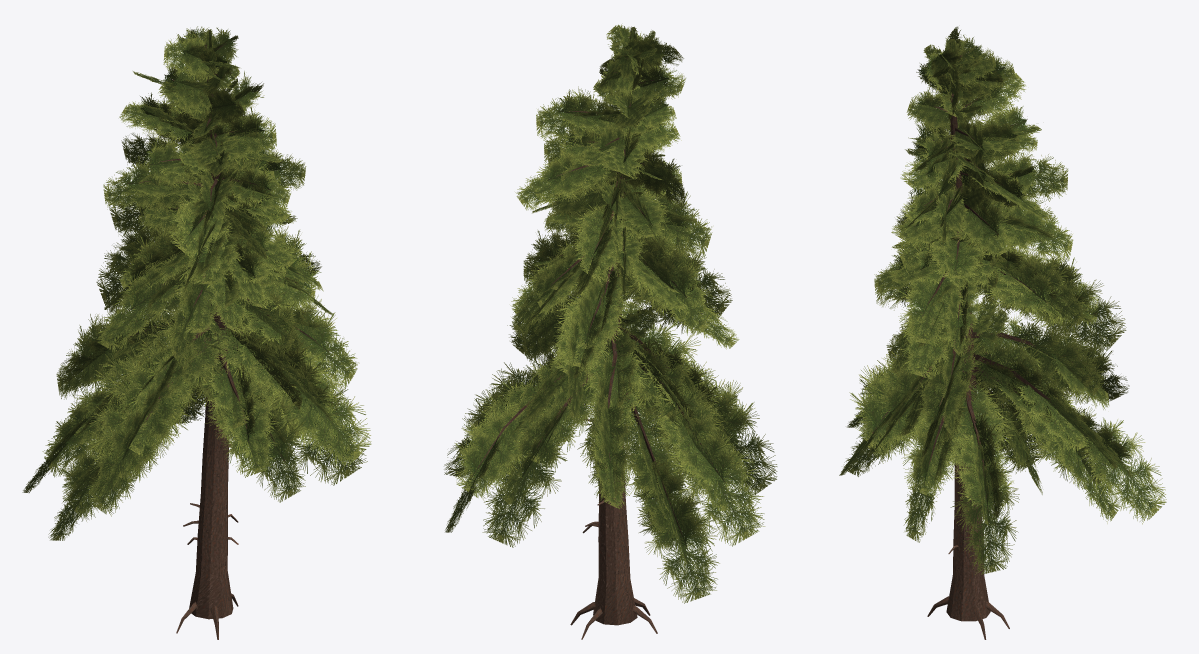
File: pine_b.glb
The picture shows the model from 3 angles, left to right: view 1: azimuth 30°, elevation 25°; view 2: azimuth 150°, elevation 25°; view 3: azimuth 270°, elevation 25°; orthographic projection. The views are drawn at different scales.
Visible parts, largest first — view 1: pine_b_pine_needles_b, pine_b_bark_pine; view 2: pine_b_pine_needles_b, pine_b_bark_pine; view 3: pine_b_pine_needles_b, pine_b_bark_pine.
Part boxes in pixels (left/top/right/bottom): pine_b_pine_needles_b: left=22, top=26, right=371, bottom=540; pine_b_bark_pine: left=88, top=43, right=316, bottom=639; pine_b_pine_needles_b: left=444, top=24, right=777, bottom=603; pine_b_bark_pine: left=477, top=48, right=724, bottom=639; pine_b_pine_needles_b: left=839, top=26, right=1166, bottom=574; pine_b_bark_pine: left=883, top=50, right=1075, bottom=639.
Size of the model in its own units: 10.43 by 17.45 by 9.58.
2 materials, 2 textured.
